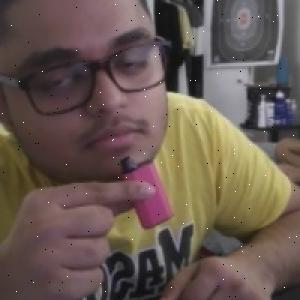Blume-E-Ciggirate: (120, 153, 174, 230)
